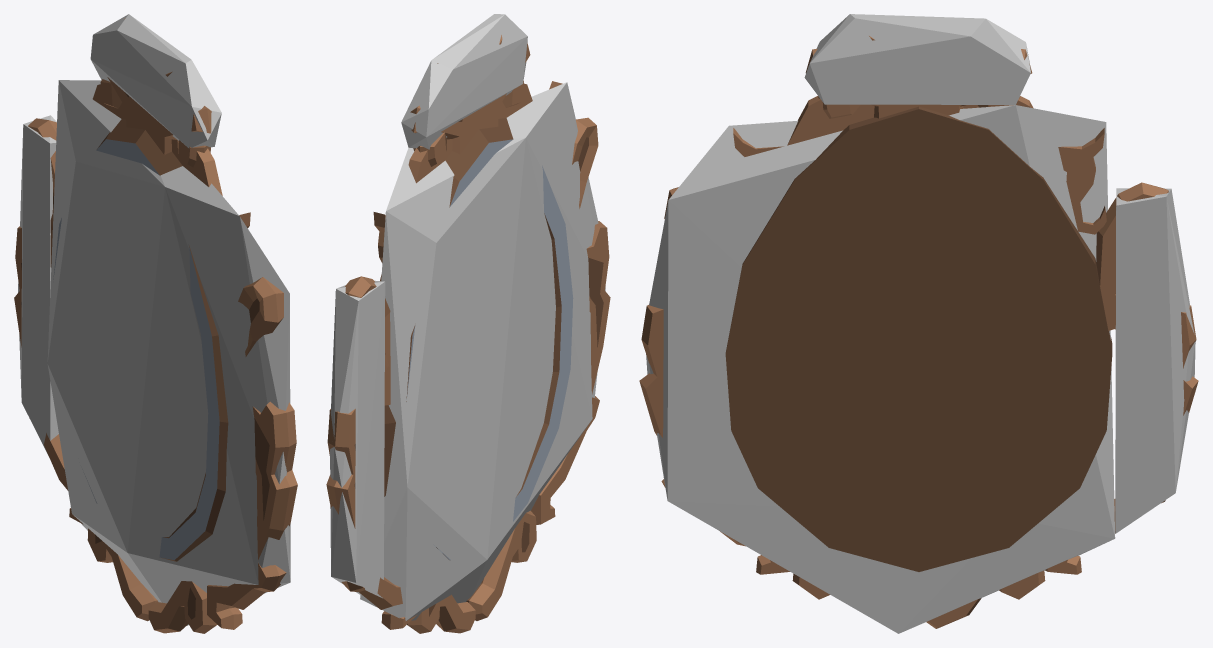
Rendered from SM_Prop_Frame_02.fbx.
3 views of the same model, side by side, from view 1: azimuth 30°, elevation 25°; view 2: azimuth 150°, elevation 25°; view 3: azimuth 270°, elevation 25° (orthographic). The views are drawn at different scales.
Visible parts, largest first — view 1: SM_Prop_Frame_02_ConvexHulls, SM_Prop_Frame_02; view 2: SM_Prop_Frame_02_ConvexHulls, SM_Prop_Frame_02; view 3: SM_Prop_Frame_02, SM_Prop_Frame_02_ConvexHulls.
Part boxes in pixels (<box>): SM_Prop_Frame_02_ConvexHulls: <box>18,14,290,625</box>; SM_Prop_Frame_02: <box>14,18,297,633</box>; SM_Prop_Frame_02_ConvexHulls: <box>330,14,605,620</box>; SM_Prop_Frame_02: <box>326,35,610,633</box>; SM_Prop_Frame_02: <box>639,36,1198,628</box>; SM_Prop_Frame_02_ConvexHulls: <box>646,14,1195,633</box>.
Size of the model in its own units: 9.45 by 111 by 134.
Materials: 2 (1 with a texture image).
